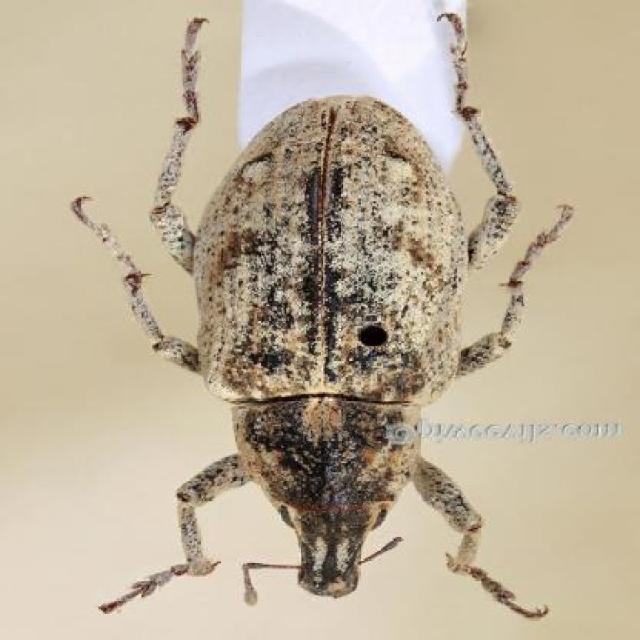rice-bug: (100, 11, 531, 607)
